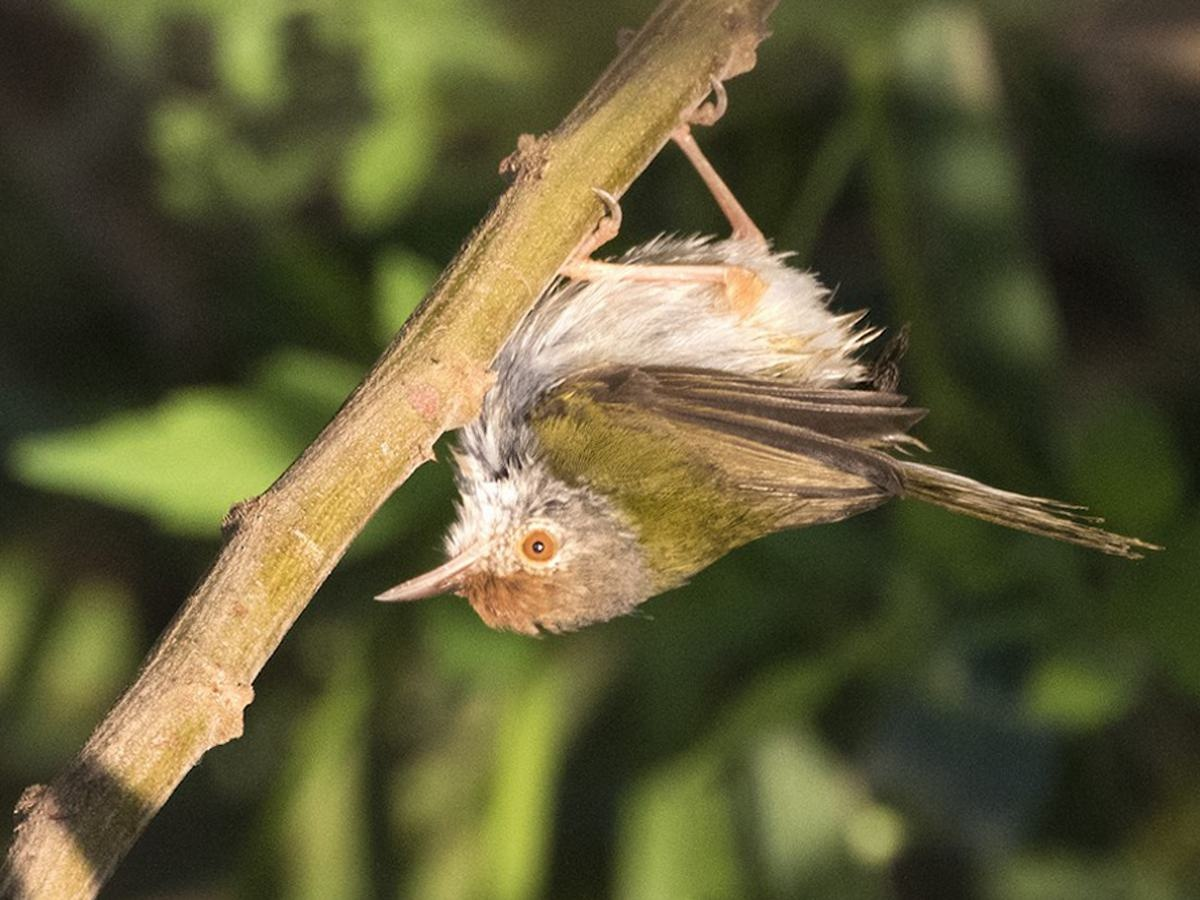tailorbird: (377, 231, 931, 644)
